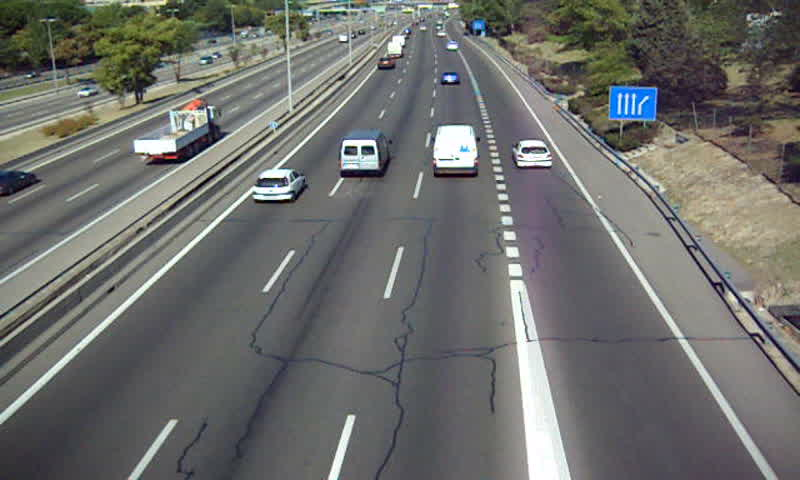car: (252, 168, 307, 202), (512, 138, 552, 168), (440, 70, 460, 86), (376, 57, 394, 70)
van: (340, 130, 391, 175), (433, 125, 478, 175)
